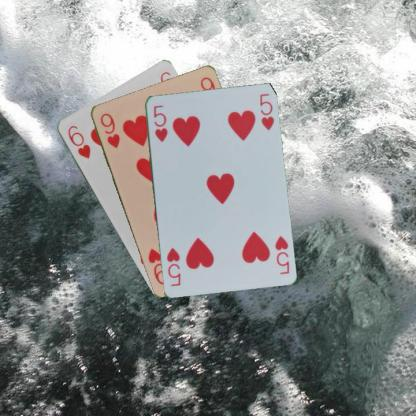5h: (272, 233, 290, 276), (151, 102, 169, 143)
6h: (65, 123, 92, 160)
9h: (97, 110, 121, 150)
